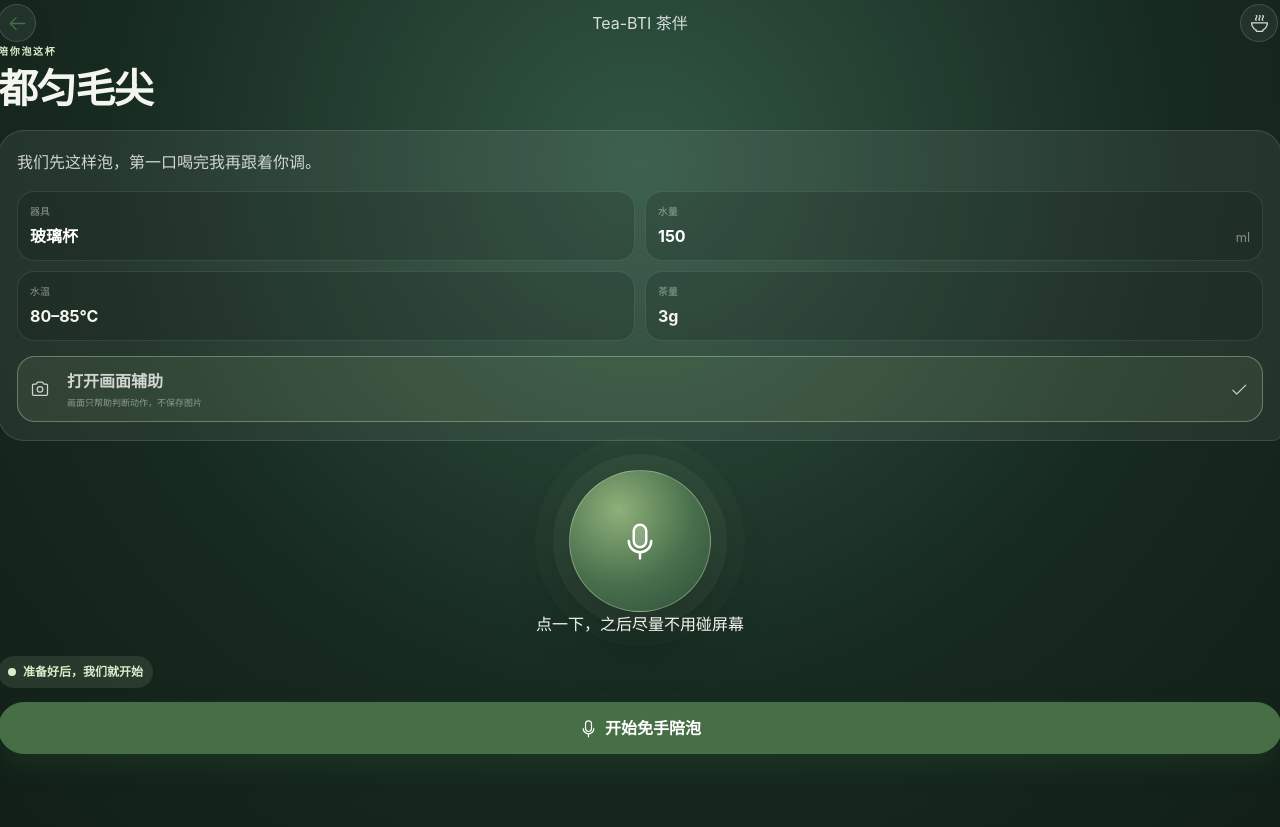
Scenario: BrewCompanionExperience › falls back to voice-only without blocking when camera and microphone are denied
Click the button named "开始陪泡" at (640, 541), box [569, 470, 711, 612]
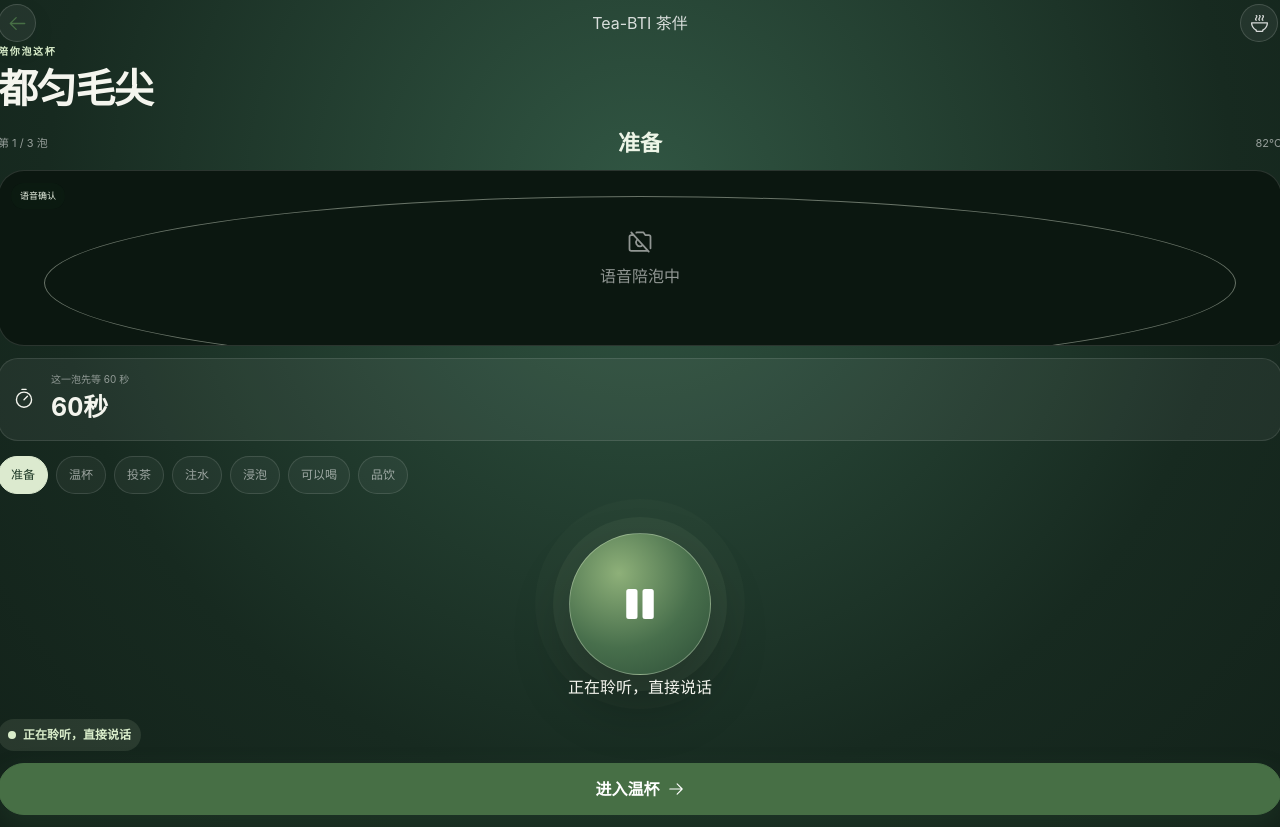
Expected: the text "语音陪泡中" is shown, [600, 264, 680, 288]
